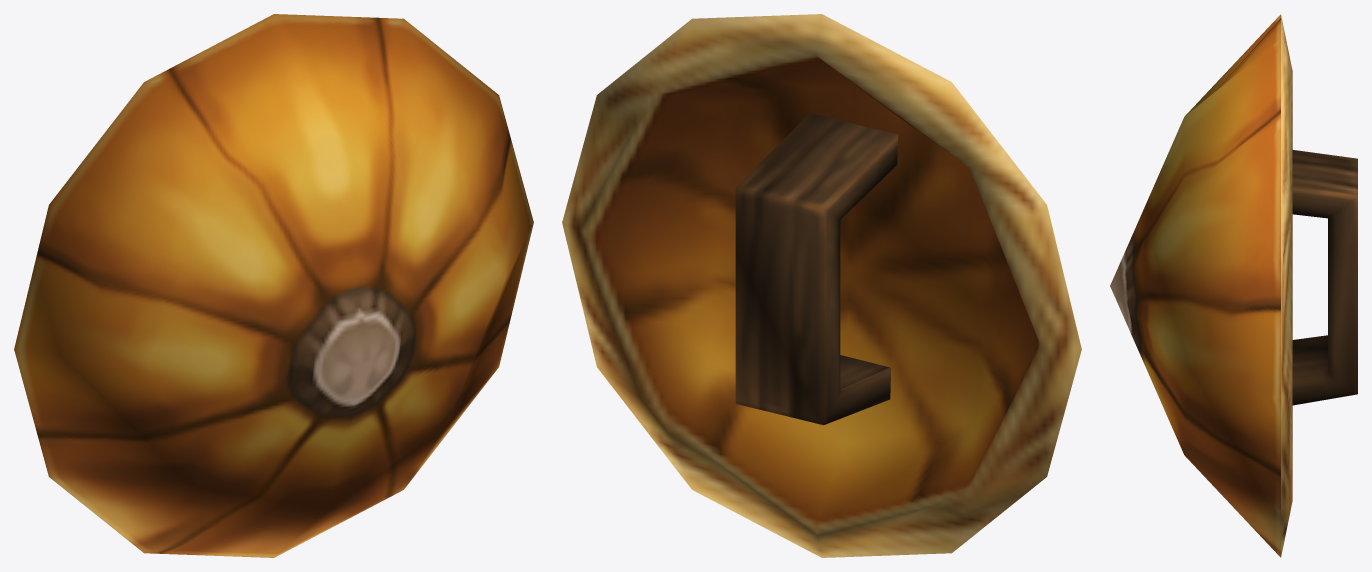
Rendered from Wp_Shield_X1.FBX.
3 views of the same model, side by side, from view 1: azimuth 30°, elevation 25°; view 2: azimuth 150°, elevation 25°; view 3: azimuth 270°, elevation 25° (orthographic). The views are drawn at different scales.
Visible parts, largest first — view 1: Wp_Shield_X1; view 2: Wp_Shield_X1; view 3: Wp_Shield_X1.
Part boxes in pixels (<box>): Wp_Shield_X1: <box>14,14,533,557</box>; Wp_Shield_X1: <box>562,14,1081,557</box>; Wp_Shield_X1: <box>1110,14,1357,557</box>.
Size of the model in its own units: 83.23 by 83.23 by 37.79.
